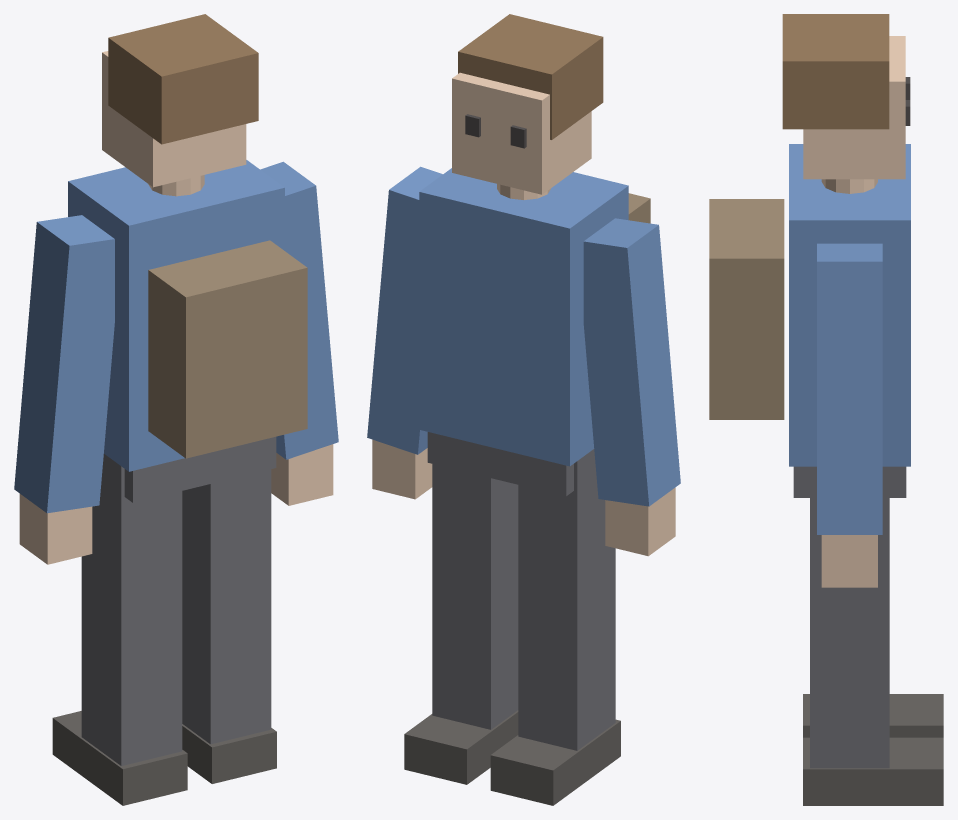
Rendered from civ_02.glb.
The picture shows the model from 3 angles, left to right: view 1: azimuth 30°, elevation 25°; view 2: azimuth 150°, elevation 25°; view 3: azimuth 270°, elevation 25°; orthographic projection. The views are drawn at different scales.
Parts seen in each view (by area): view 1: civ_02_pack, civ_02_leg_L, civ_02_arm_L, civ_02_torso, civ_02_leg_R, civ_02_hair, civ_02_arm_R, civ_02_head, civ_02_shoe_L, civ_02_pelvis, civ_02_shoe_R, civ_02_hand_L (+2 smaller); view 2: civ_02_torso, civ_02_leg_L, civ_02_arm_L, civ_02_leg_R, civ_02_arm_R, civ_02_head, civ_02_hair, civ_02_shoe_L, civ_02_shoe_R, civ_02_pelvis, civ_02_hand_L, civ_02_hand_R (+1 smaller); view 3: civ_02_torso, civ_02_arm_R, civ_02_leg_R, civ_02_pack, civ_02_hair, civ_02_shoe_R, civ_02_head, civ_02_hand_R, civ_02_shoe_L, civ_02_pelvis, civ_02_neck.
Part boxes in pixels (x1=…): civ_02_pack: x1=148, y1=240, x2=307, y2=458; civ_02_leg_L: x1=81, y1=454, x2=182, y2=765; civ_02_arm_L: x1=14, y1=215, x2=114, y2=513; civ_02_torso: x1=68, y1=160, x2=284, y2=471; civ_02_leg_R: x1=182, y1=469, x2=271, y2=744; civ_02_hair: x1=108, y1=14, x2=258, y2=144; civ_02_arm_R: x1=260, y1=161, x2=338, y2=459; civ_02_head: x1=102, y1=51, x2=246, y2=187; civ_02_shoe_L: x1=52, y1=711, x2=187, y2=805; civ_02_pelvis: x1=124, y1=436, x2=276, y2=502; civ_02_shoe_R: x1=182, y1=724, x2=276, y2=783; civ_02_hand_L: x1=19, y1=494, x2=92, y2=564; civ_02_torso: x1=419, y1=168, x2=628, y2=466; civ_02_leg_L: x1=518, y1=449, x2=615, y2=750; civ_02_arm_L: x1=583, y1=218, x2=680, y2=506; civ_02_leg_R: x1=432, y1=464, x2=518, y2=729; civ_02_arm_R: x1=367, y1=166, x2=442, y2=454; civ_02_head: x1=452, y1=72, x2=591, y2=194; civ_02_hair: x1=458, y1=14, x2=603, y2=139; civ_02_shoe_L: x1=490, y1=719, x2=620, y2=805; civ_02_shoe_R: x1=404, y1=710, x2=518, y2=784; civ_02_pelvis: x1=427, y1=432, x2=573, y2=496; civ_02_hand_L: x1=605, y1=487, x2=675, y2=556; civ_02_hand_R: x1=372, y1=439, x2=432, y2=499; civ_02_torso: x1=789, y1=144, x2=910, y2=466; civ_02_arm_R: x1=817, y1=243, x2=882, y2=534; civ_02_leg_R: x1=810, y1=466, x2=889, y2=768; civ_02_pack: x1=709, y1=199, x2=784, y2=419; civ_02_hair: x1=782, y1=14, x2=889, y2=129; civ_02_shoe_R: x1=803, y1=737, x2=943, y2=805; civ_02_head: x1=803, y1=36, x2=905, y2=179; civ_02_hand_R: x1=821, y1=535, x2=877, y2=587; civ_02_shoe_L: x1=803, y1=694, x2=943, y2=737; civ_02_pelvis: x1=793, y1=466, x2=906, y2=497; civ_02_neck: x1=821, y1=179, x2=877, y2=193.
Size of the model in its own units: 0.7486 by 1.79 by 0.52.
